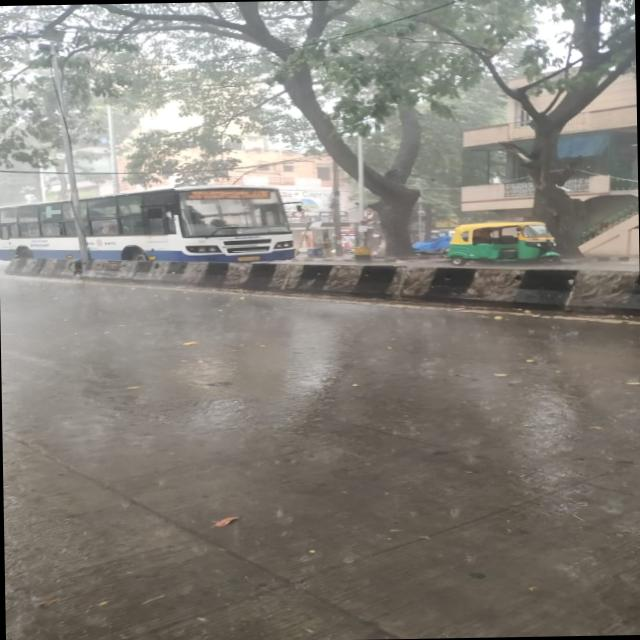bus: (5, 174, 304, 274)
display: (189, 186, 275, 200)
dnumber: (251, 188, 271, 198)
